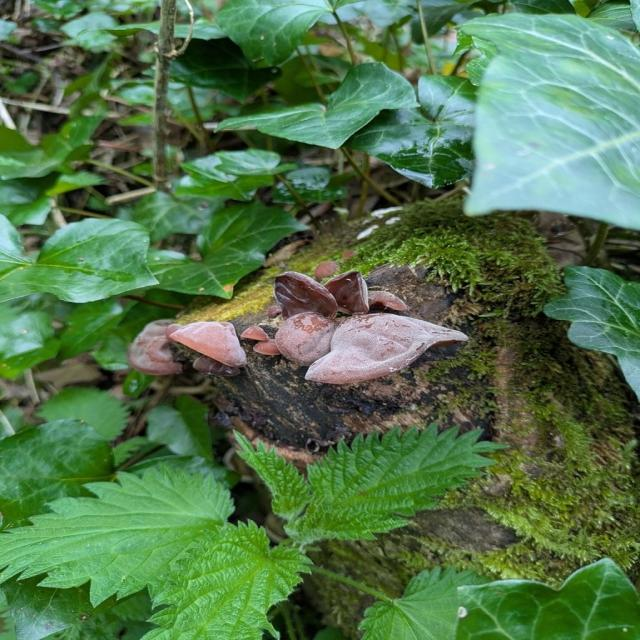Matang: (300, 310, 476, 391), (171, 314, 253, 372), (127, 312, 194, 378), (266, 267, 342, 321), (278, 311, 338, 368), (328, 264, 370, 315), (363, 283, 416, 314)
primordia: (250, 338, 282, 358), (240, 323, 268, 342)
